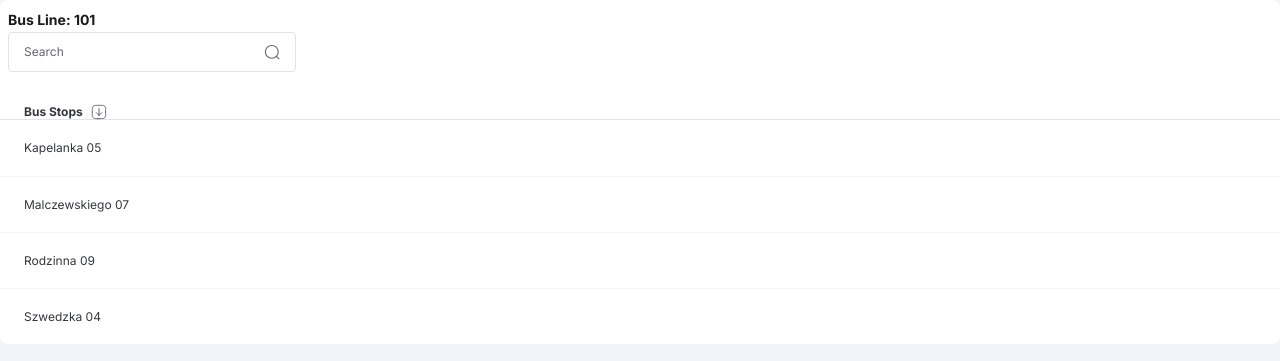
it: StopsList.vue › filters stops based on search query
In the field labelled "Search": (152, 52) [8, 32, 296, 72], type "Kapelanka"
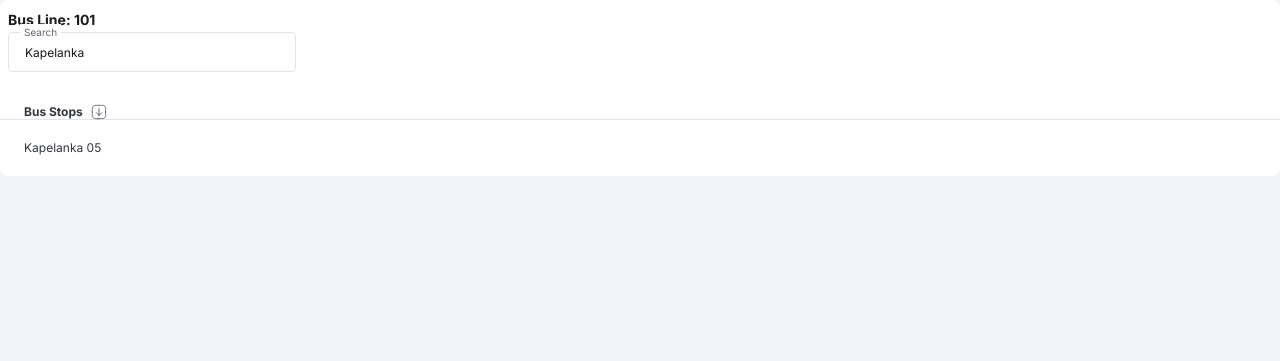
expect the number of elements with class "bus-list__item" is 1: met, box [24, 140, 101, 155]
